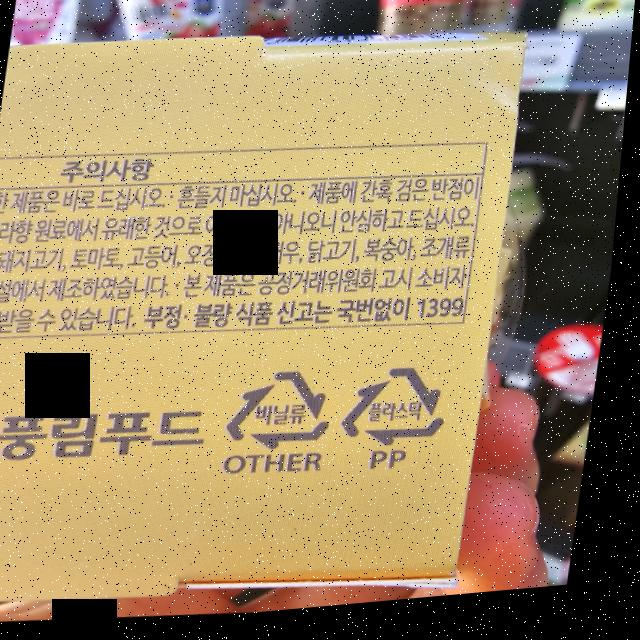Plastic: (345, 366, 463, 460)
Vinyl: (229, 368, 348, 462)
